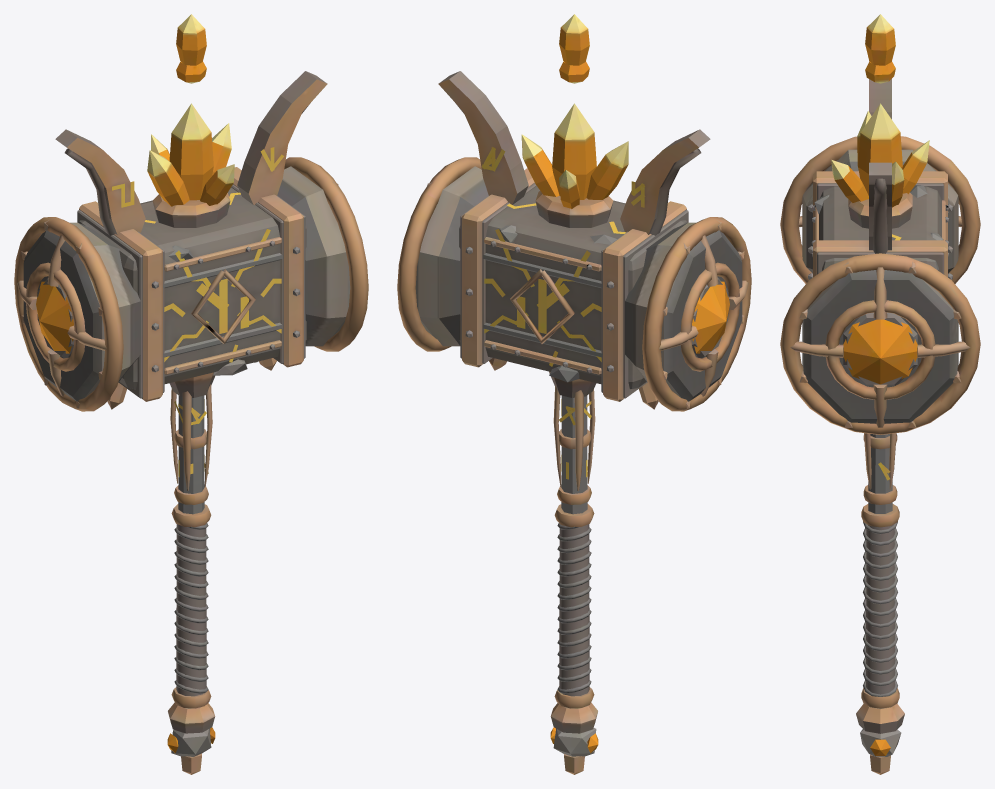
The model's file is seamcaller_maul.glb.
The picture shows the model from 3 angles, left to right: view 1: azimuth 30°, elevation 25°; view 2: azimuth 150°, elevation 25°; view 3: azimuth 270°, elevation 25°; orthographic projection.
Parts seen in each view (by area): view 1: seamcaller_maul; view 2: seamcaller_maul; view 3: seamcaller_maul.
Part boxes in pixels (x1,y1,x2,y2): seamcaller_maul: (14,14,368,774); seamcaller_maul: (397,14,751,774); seamcaller_maul: (780,14,980,774).
Size of the model in its own units: 1.14 by 2.73 by 0.652.
Materials: 1 (1 with a texture image).
